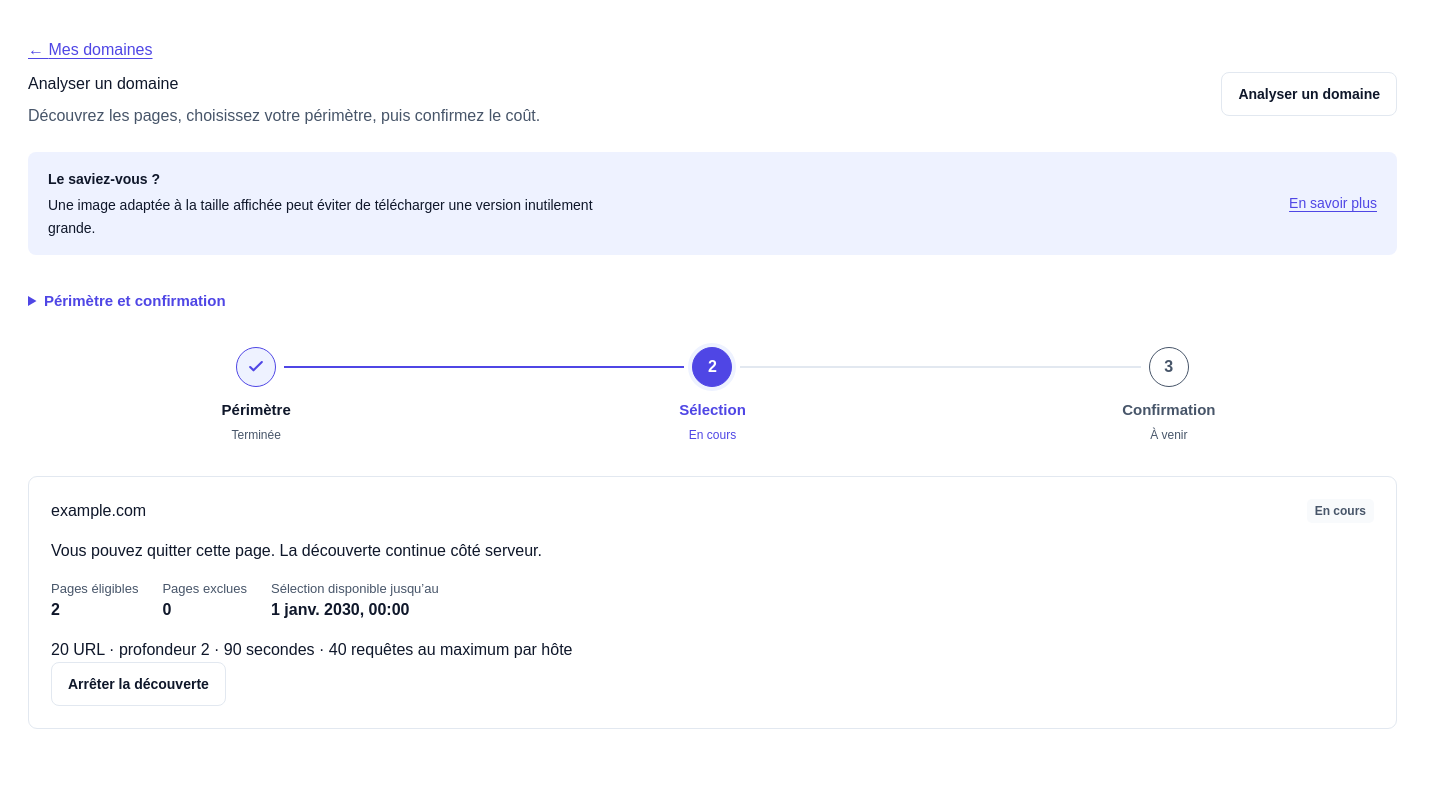
Scenario: keeps discovery cancellation separate from the launch confirmation step
Click the button "Arrêter la découverte".
click(138, 684)  # box [51, 662, 226, 706]
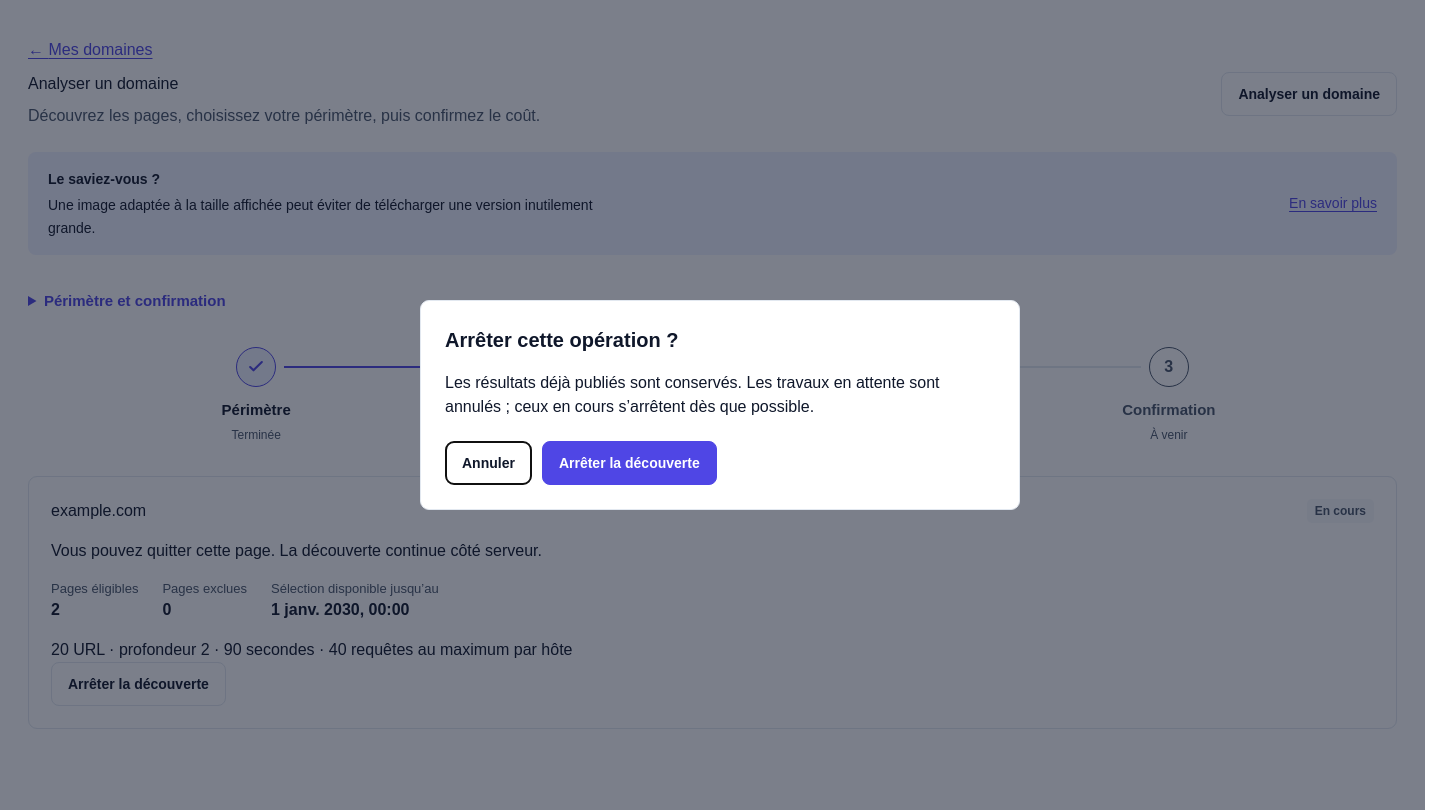
Expected: the list item "2 Sélection En cours" is shown, [679, 347, 746, 442]
Expected: the dialog is shown, [420, 300, 1020, 510]
